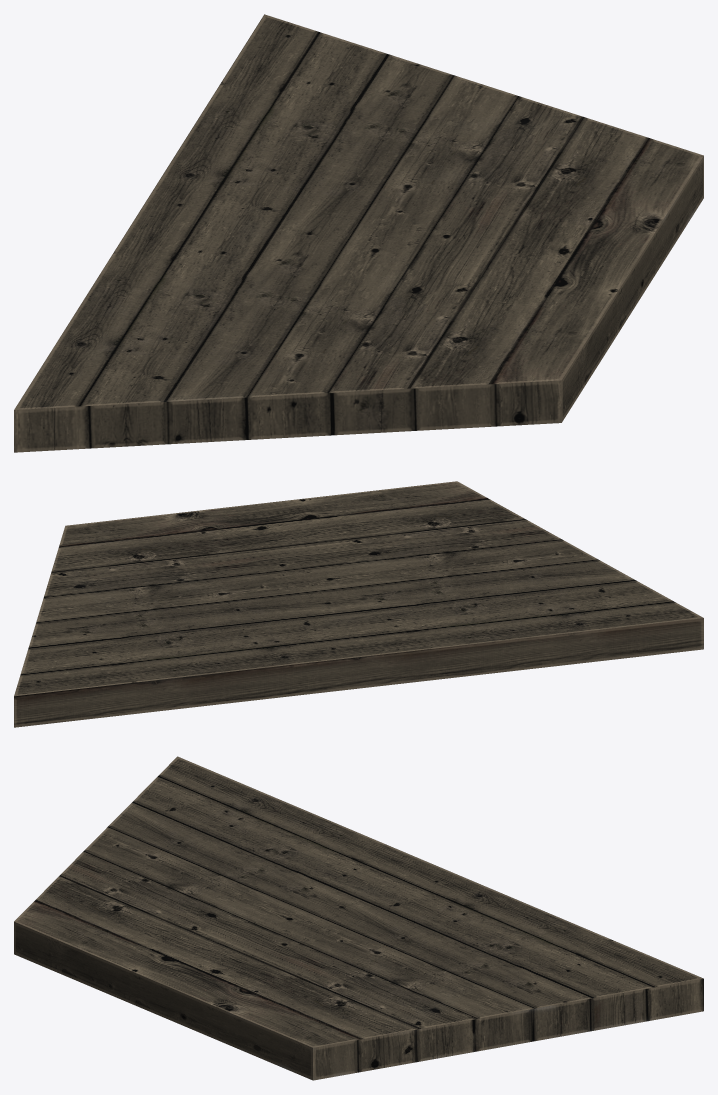
The picture shows the model from 3 angles, top to bottom: view 1: azimuth 30°, elevation 25°; view 2: azimuth 150°, elevation 25°; view 3: azimuth 270°, elevation 25°; orthographic projection. The views are drawn at different scales.
Visible parts, largest first — view 1: Object_2; view 2: Object_2; view 3: Object_2.
Boxes of the visible parts, left/top/right/bottom form: Object_2: left=14, top=14, right=703, bottom=452; Object_2: left=14, top=481, right=703, bottom=727; Object_2: left=14, top=756, right=703, bottom=1080.
Bounding box in the file's own units: 14.07 × 0.7358 × 14.08.
1 material, 1 textured.
